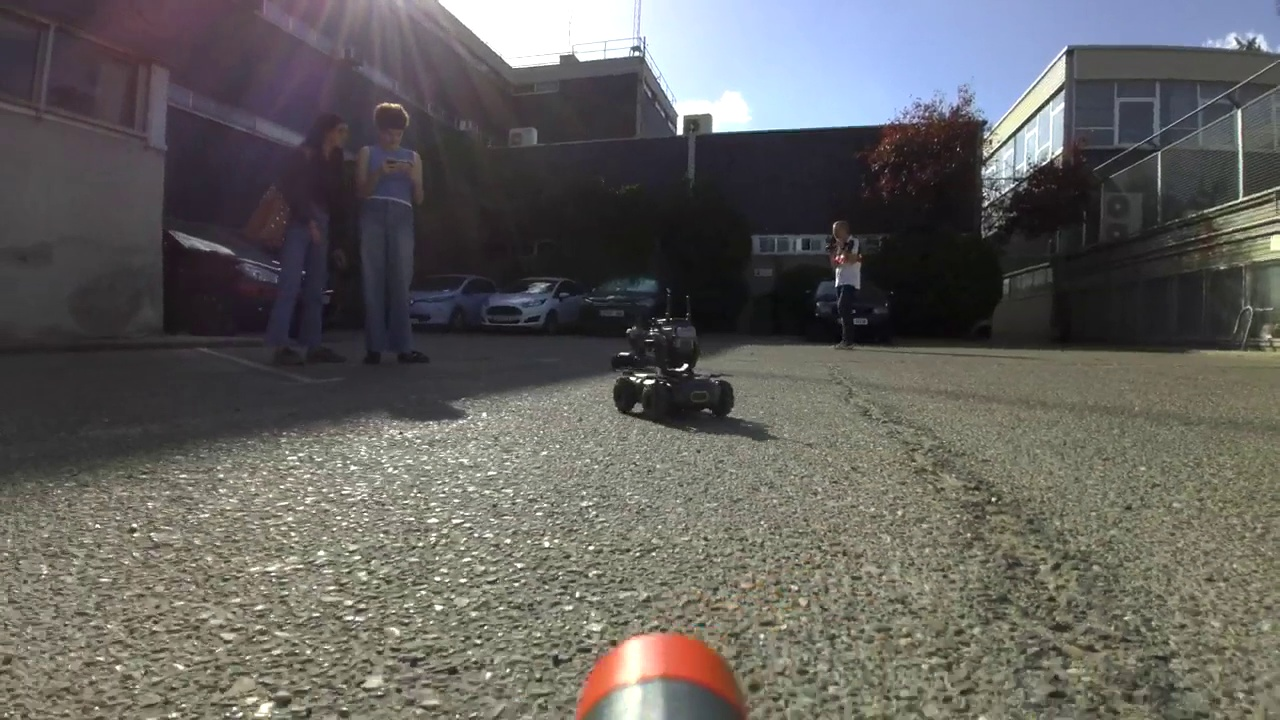robot: (619, 287, 736, 419), (613, 313, 656, 371)
